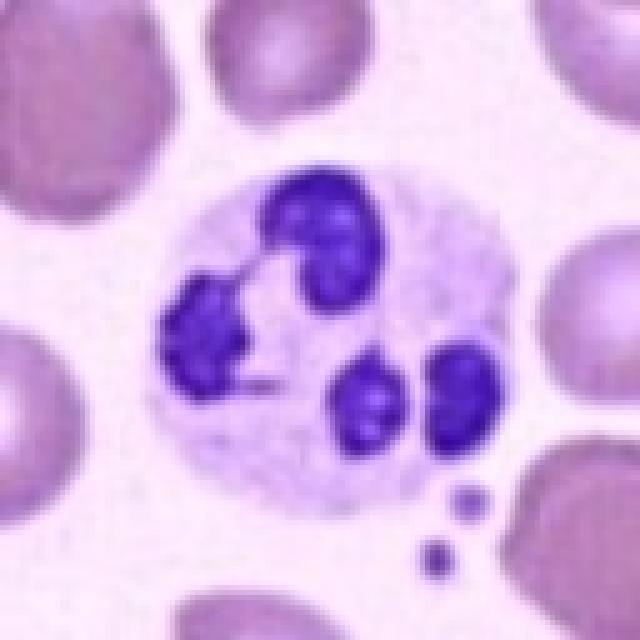neutro: (127, 129, 564, 508)
